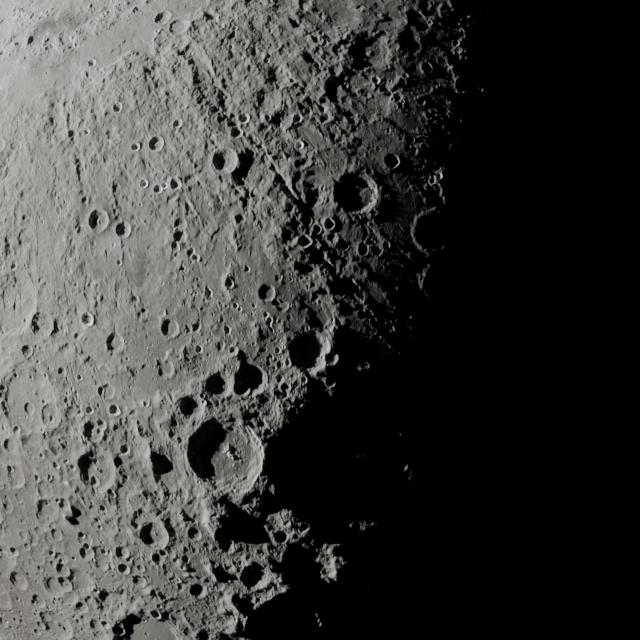crater: (188, 420, 268, 495), (342, 27, 390, 84), (333, 171, 379, 217), (287, 328, 328, 378), (228, 362, 268, 403), (232, 559, 272, 596), (79, 451, 112, 490), (202, 370, 230, 402), (136, 521, 166, 550), (211, 148, 238, 178), (85, 206, 109, 237), (32, 311, 53, 338), (104, 331, 128, 354), (255, 284, 277, 308), (112, 218, 132, 244), (161, 318, 181, 339), (169, 230, 187, 252), (191, 581, 207, 603), (228, 211, 248, 228), (113, 547, 132, 564), (384, 152, 399, 173), (149, 134, 164, 155), (22, 342, 38, 361), (79, 312, 94, 330), (115, 562, 131, 575), (167, 176, 179, 192)
rock: (222, 440, 238, 462)
